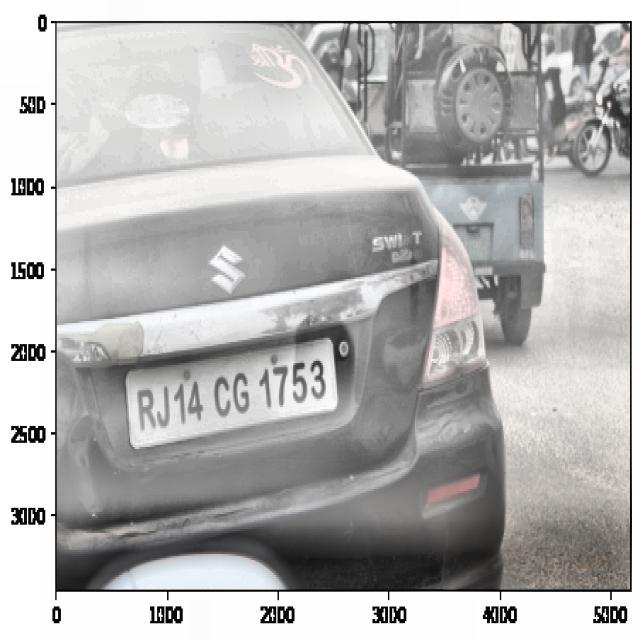license_plate: (134, 349, 333, 432)
